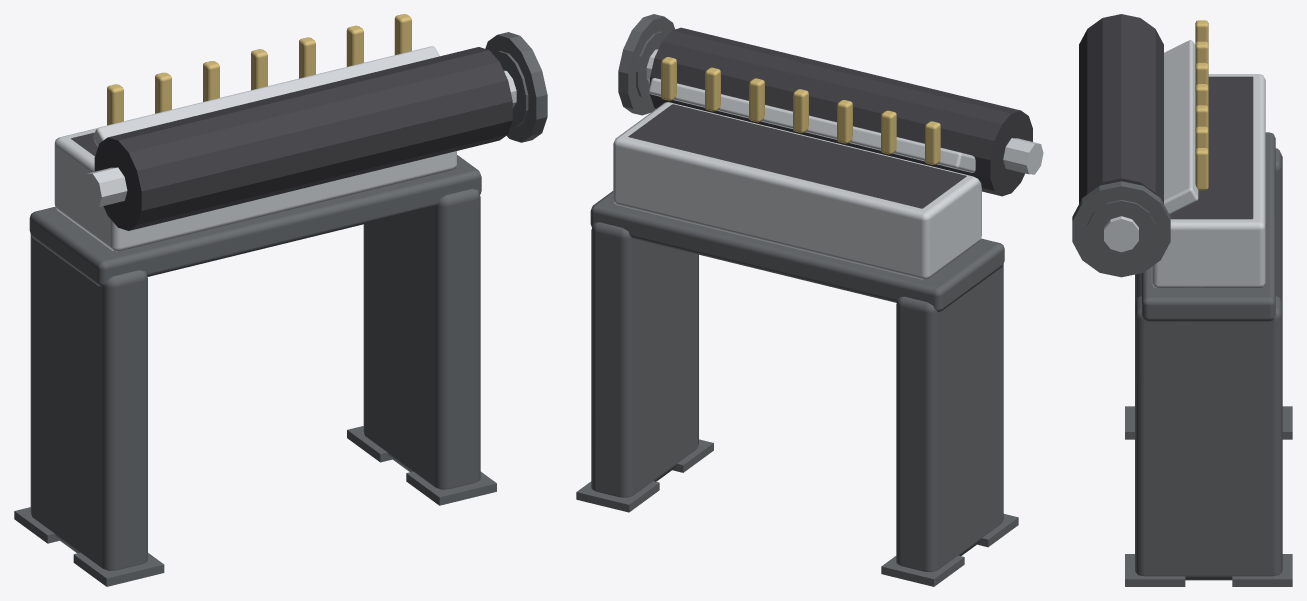
The model's file is printing-press-and-newspaper-office-ink-fountain-842249be__37730.glb.
3 renders of one model, left to right at view 1: azimuth 30°, elevation 25°; view 2: azimuth 150°, elevation 25°; view 3: azimuth 270°, elevation 25°, orthographic. The views are drawn at different scales.
Parts seen in each view (by area): view 1: ink-fountain, roller-fountain/ink, roller-fountain/steel; view 2: ink-fountain, roller-fountain/ink, roller-fountain/steel; view 3: ink-fountain, roller-fountain/ink.
Part boxes in pixels (x1=…): ink-fountain: x1=14, y1=14, x2=547, y2=586; roller-fountain/ink: x1=94, y1=47, x2=512, y2=230; roller-fountain/steel: x1=83, y1=167, x2=127, y2=207; ink-fountain: x1=576, y1=14, x2=1018, y2=586; roller-fountain/ink: x1=650, y1=27, x2=1032, y2=196; roller-fountain/steel: x1=1003, y1=138, x2=1043, y2=174; ink-fountain: x1=1072, y1=20, x2=1292, y2=586; roller-fountain/ink: x1=1079, y1=14, x2=1163, y2=203.
Bounding box in the file's own units: 1.37 × 1.37 × 0.6563.
